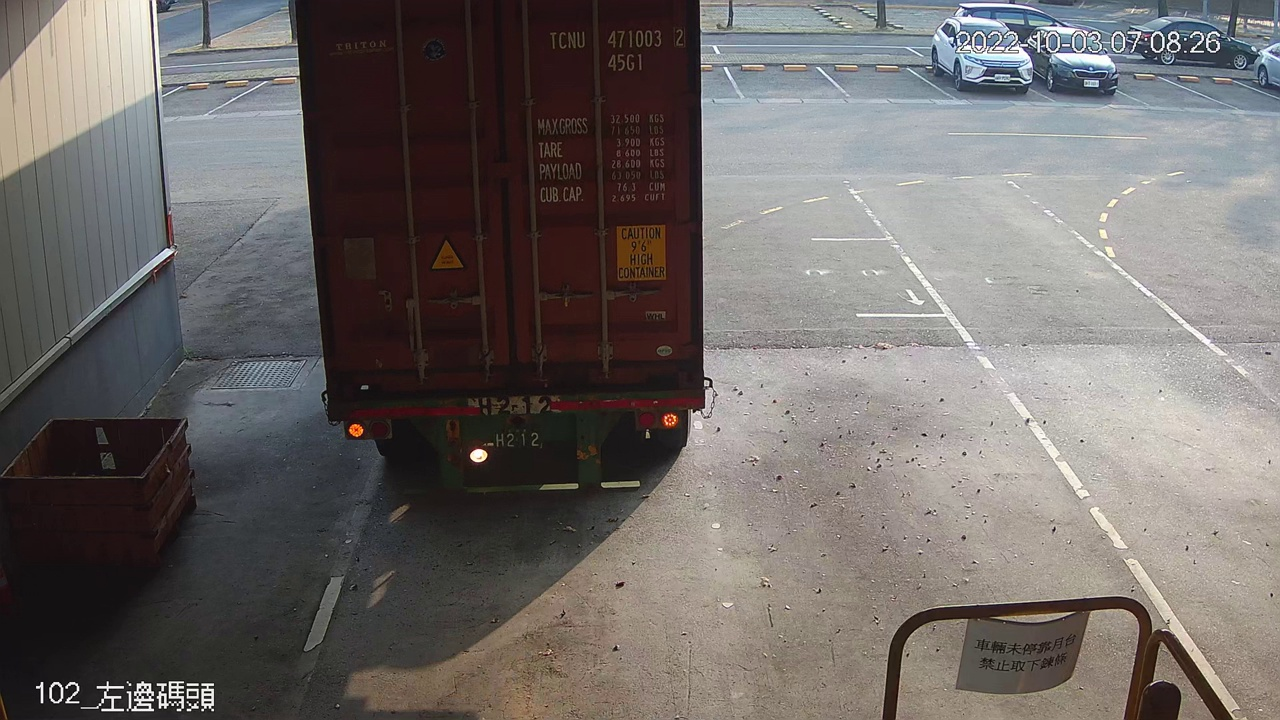container: (542, 22, 690, 77)
